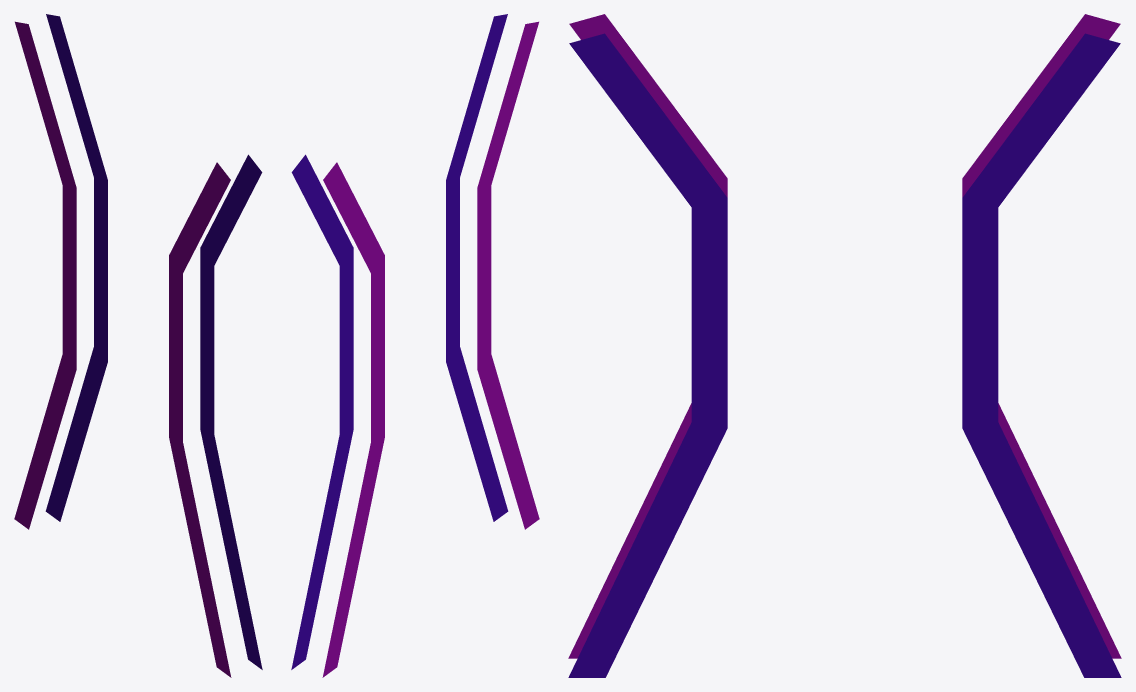
File: Light_door.fbx
3 renders of one model, left to right at view 1: azimuth 30°, elevation 25°; view 2: azimuth 150°, elevation 25°; view 3: azimuth 270°, elevation 25°, orthographic. The views are drawn at different scales.
Parts seen in each view (by area): view 1: polySurface32, polySurface29, polySurface30, polySurface31; view 2: polySurface31, polySurface30, polySurface29, polySurface32; view 3: polySurface31, polySurface32, polySurface29, polySurface30.
Boxes of the visible parts, x1=… form: polySurface32: x1=200, y1=154, x2=262, y2=669; polySurface29: x1=14, y1=21, x2=76, y2=529; polySurface30: x1=169, y1=162, x2=231, y2=677; polySurface31: x1=45, y1=14, x2=107, y2=521; polySurface31: x1=291, y1=154, x2=353, y2=669; polySurface30: x1=477, y1=21, x2=539, y2=529; polySurface29: x1=322, y1=162, x2=384, y2=677; polySurface32: x1=446, y1=14, x2=508, y2=521; polySurface31: x1=962, y1=33, x2=1121, y2=677; polySurface32: x1=568, y1=33, x2=727, y2=677; polySurface29: x1=962, y1=14, x2=1121, y2=658; polySurface30: x1=568, y1=14, x2=727, y2=658.
Bounding box in the file's own units: 25.79 × 398 × 309.
